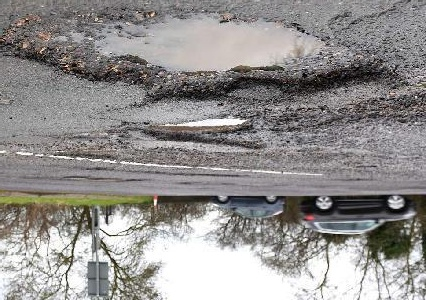pothole: (1, 8, 384, 104), (140, 114, 264, 151), (354, 89, 425, 125), (63, 175, 145, 185), (52, 150, 113, 162)
